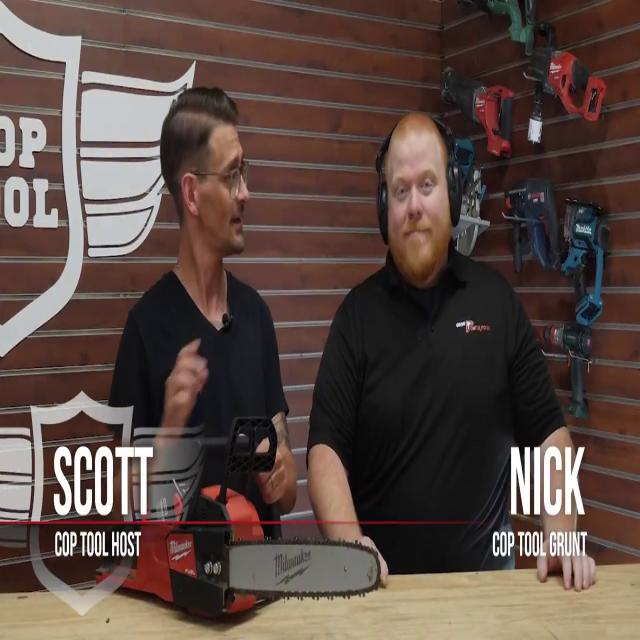earmuff: (369, 174, 394, 238)
glasses: (222, 166, 264, 201)
